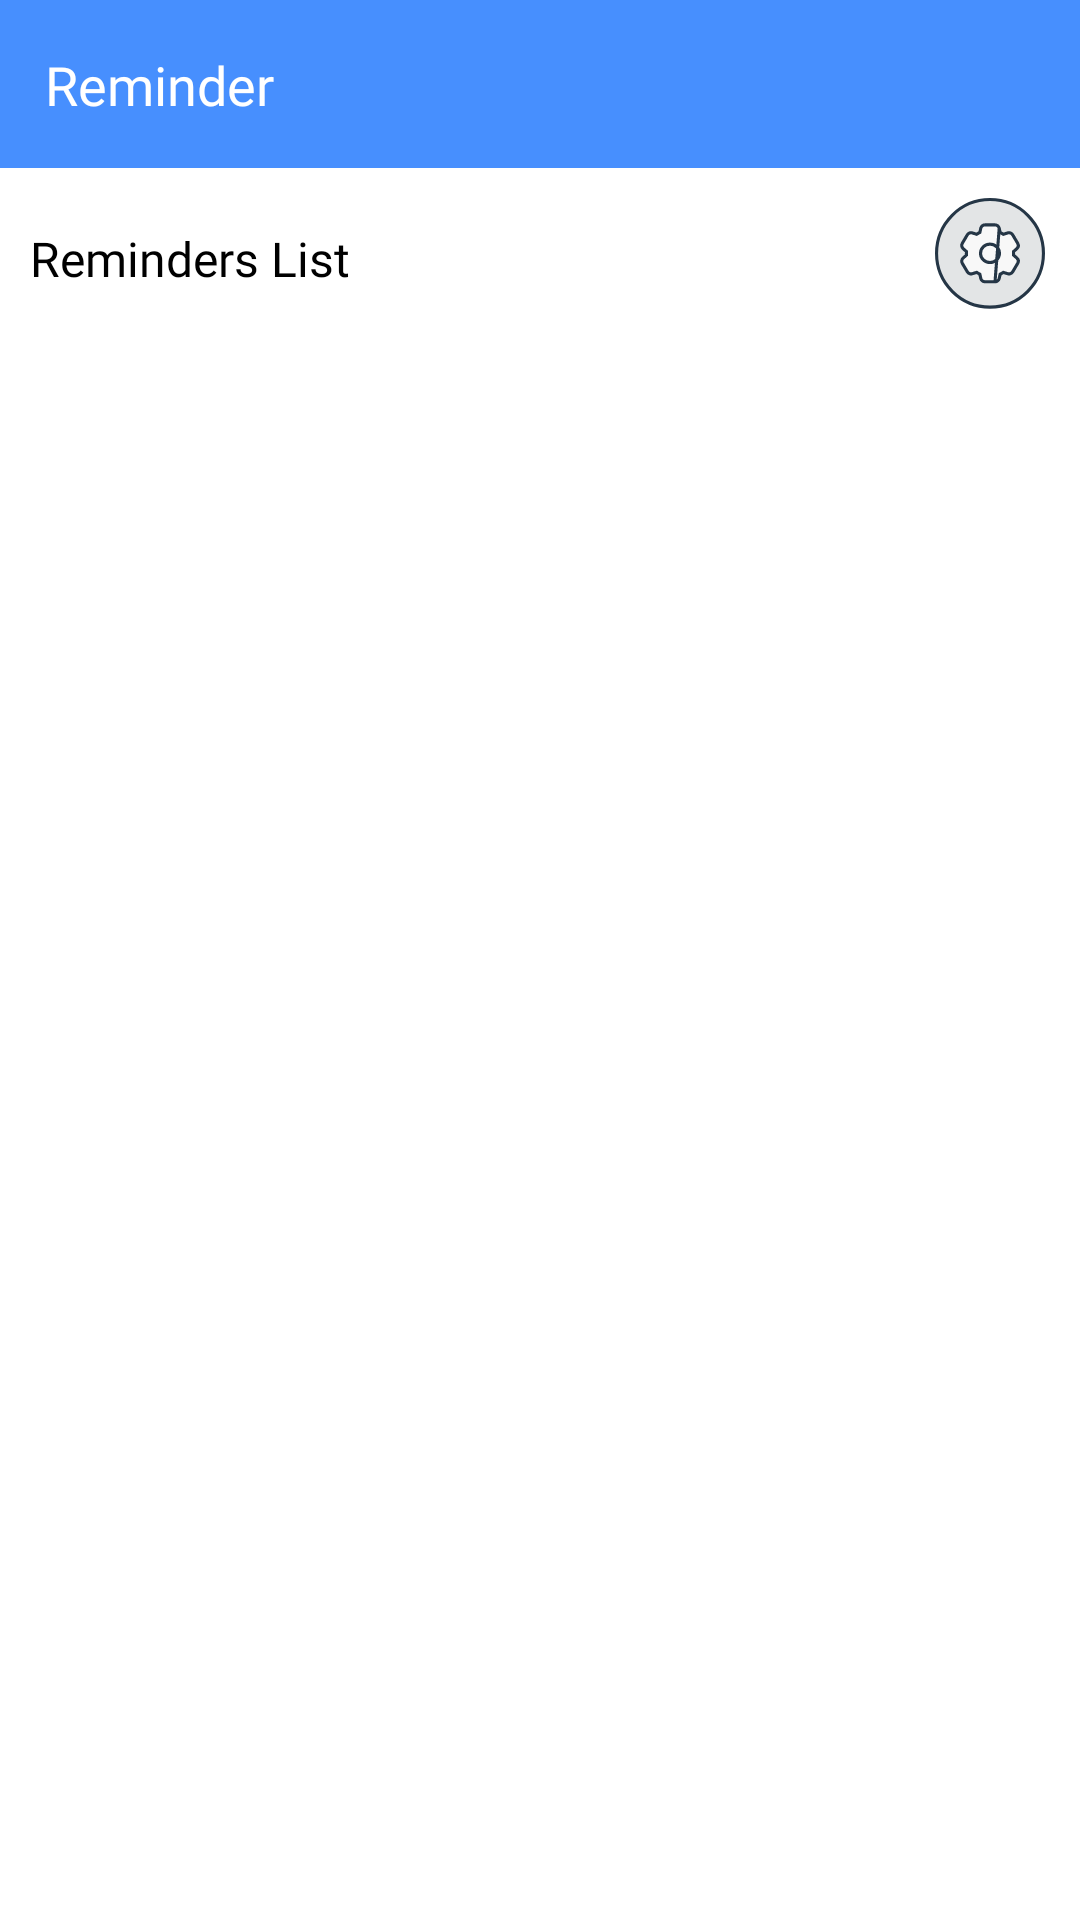

Named icons in this screenshot (1080px×1920px) and their bounding boxes, (x1, y1, x2, y2):
settings: (935, 198, 1045, 309)
